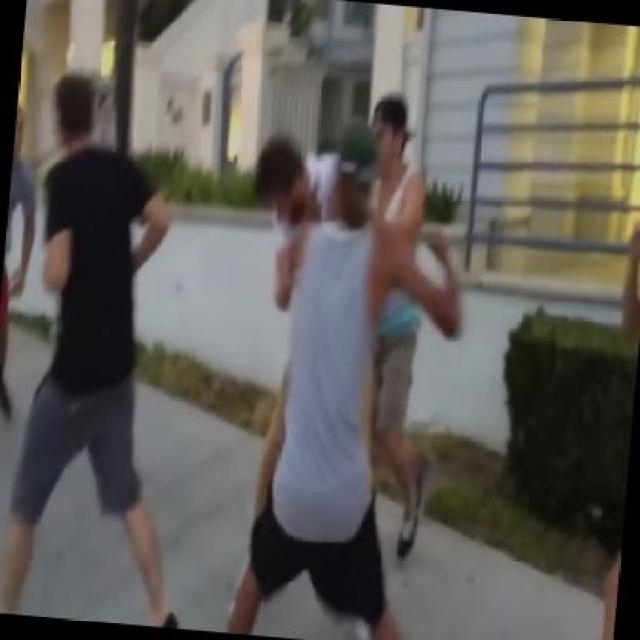fight: (221, 89, 468, 638)
non-fight: (0, 43, 183, 635)
